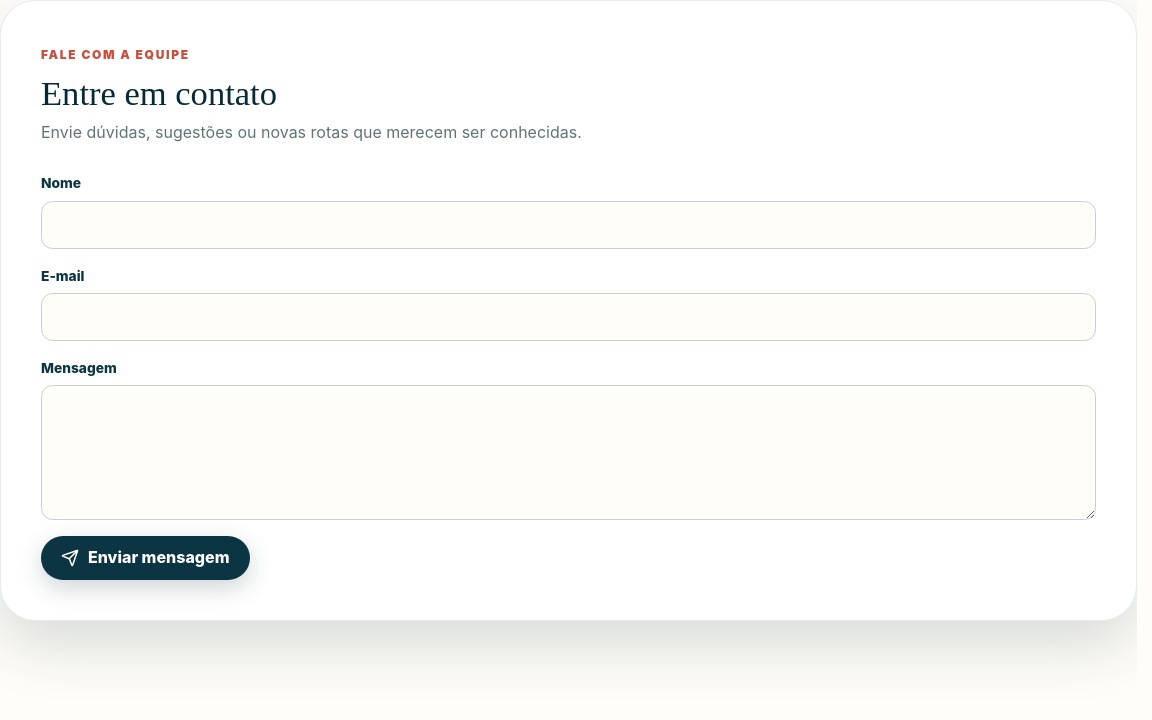
Test case: ContactForm › envia dados controlados e mostra confirmação
This screenshot has width=1152, height=720.
In the field labelled "Nome": (568, 224) [41,200,1096,248], type "Ana Costa"
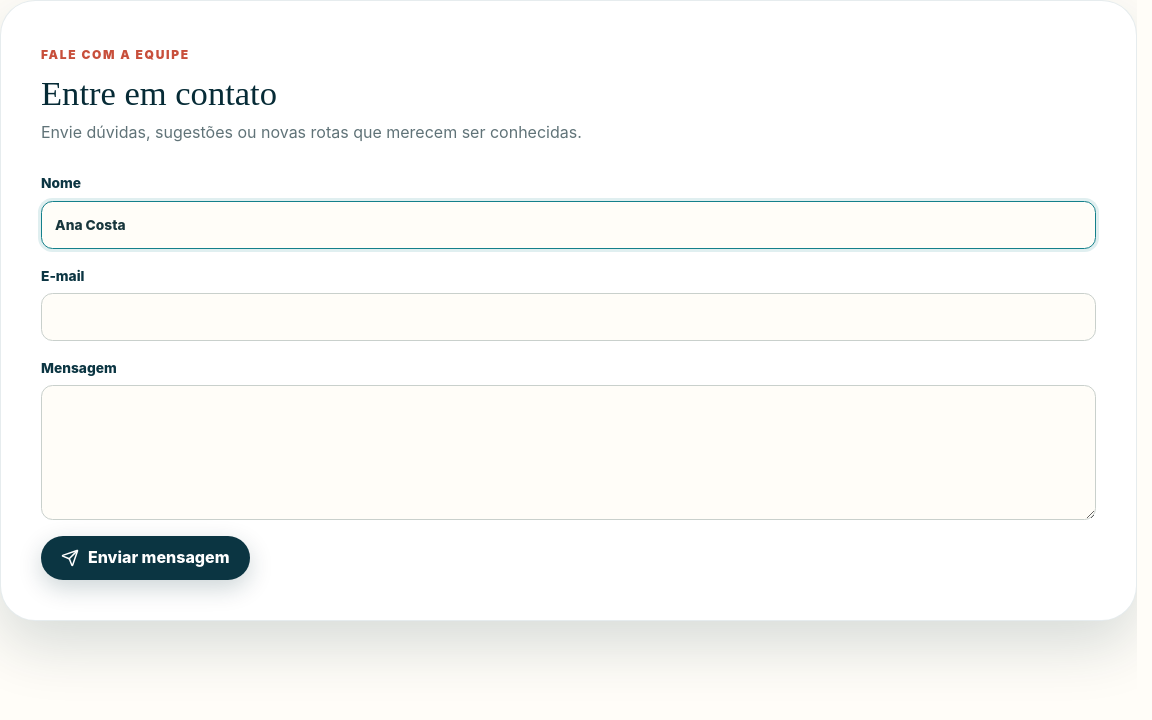
In the field labelled "E-mail": (568, 317) [41,293,1096,341], type "ana@example.com"
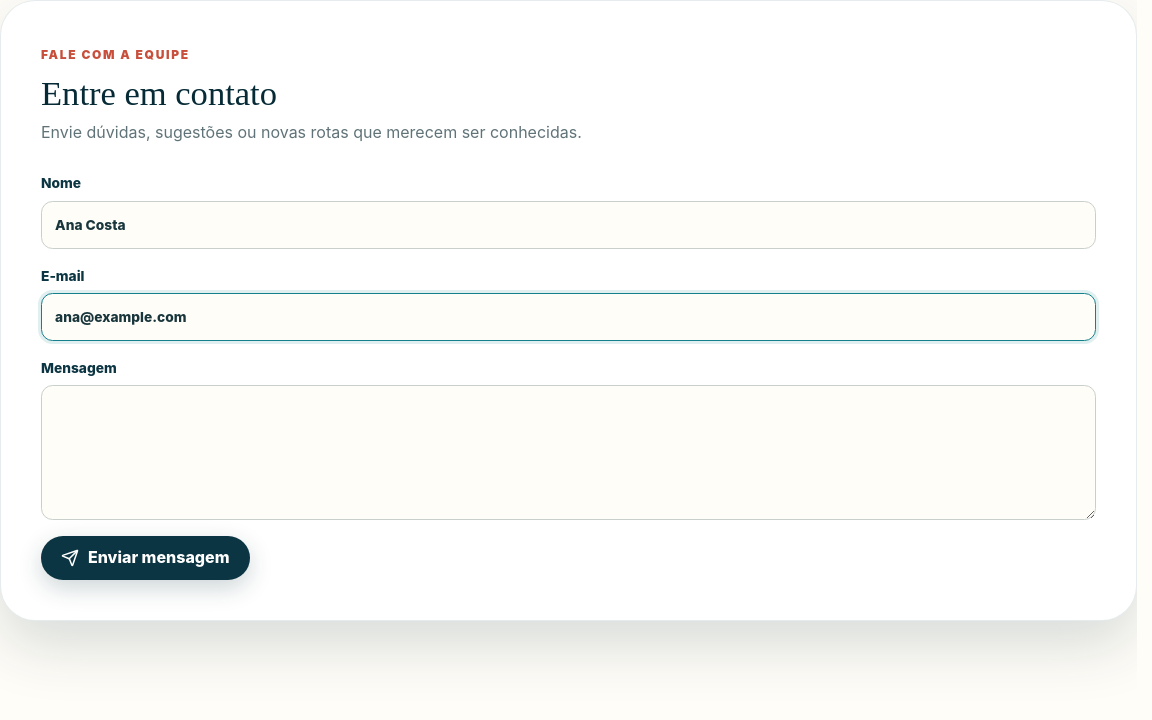
In the text box labelled "Mensagem": (568, 452) [41,385,1096,520], type "Quero sugerir uma praia para o catálogo Hidden Route."
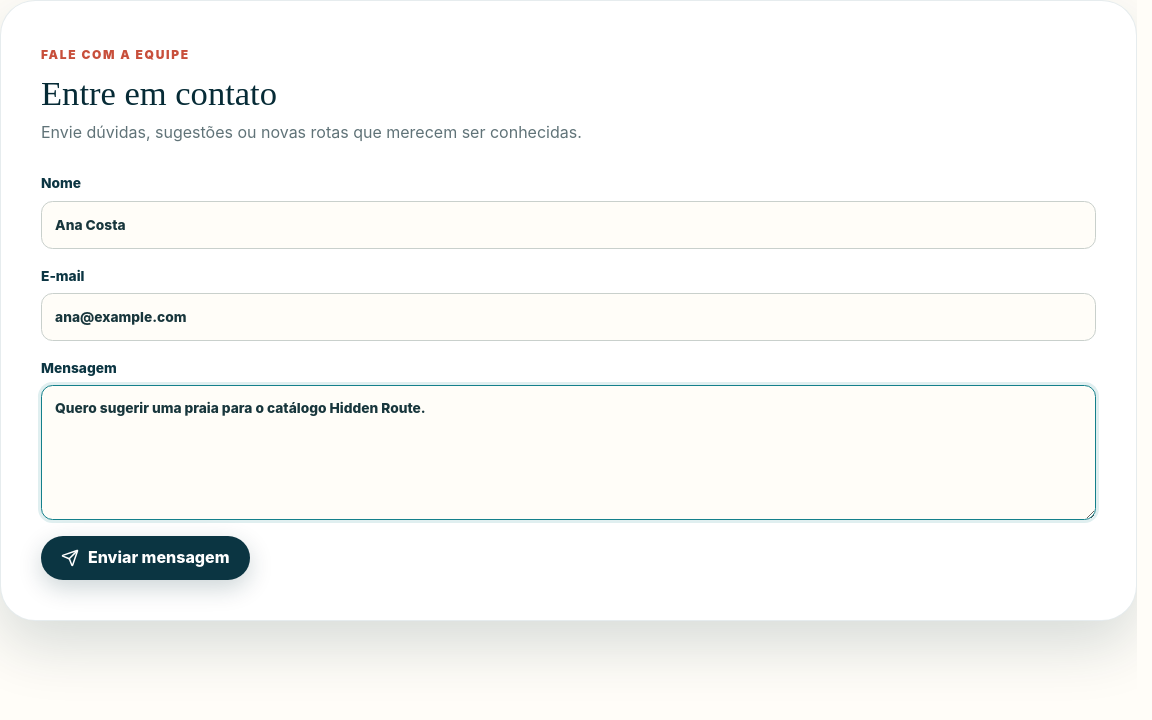
Click the button "Enviar mensagem": click(145, 558) [41,536,250,580]
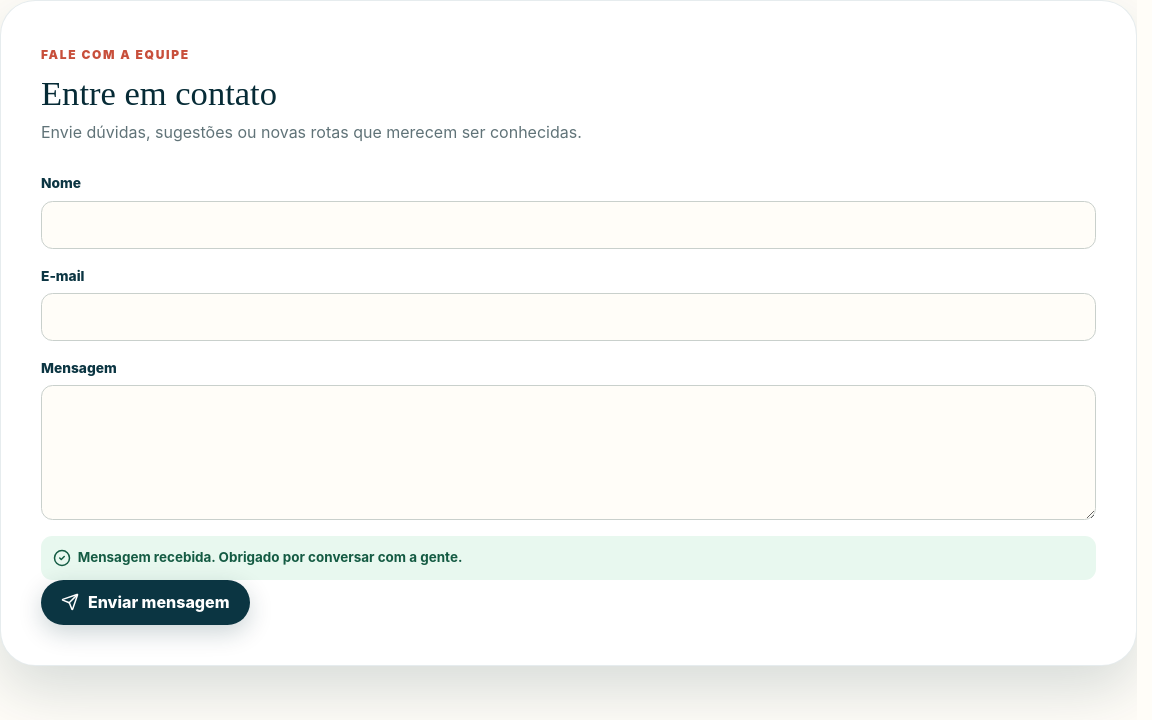
Expected: the text "Mensagem recebida. Obrigado por conversar com a gente." is shown, [41,536,1096,580]
